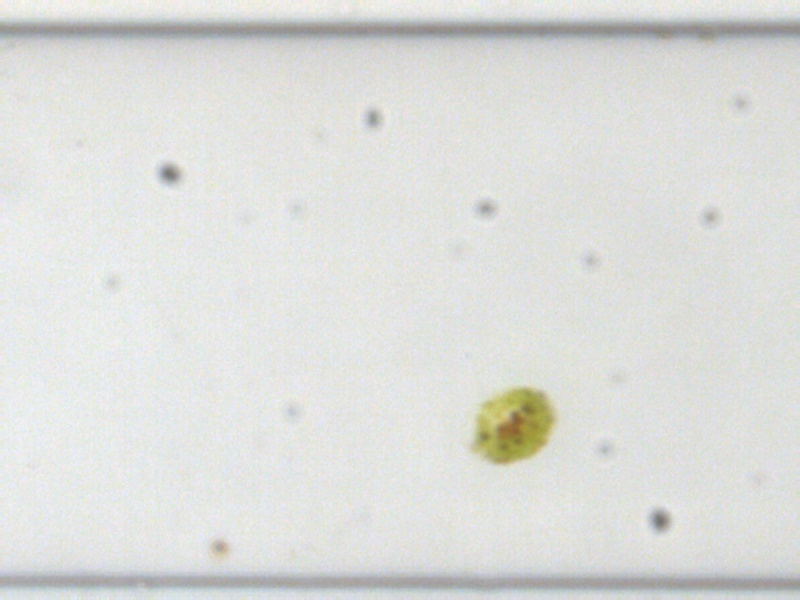Chlorella: (208, 538, 228, 557)
Haematococcus: (466, 380, 556, 467)
